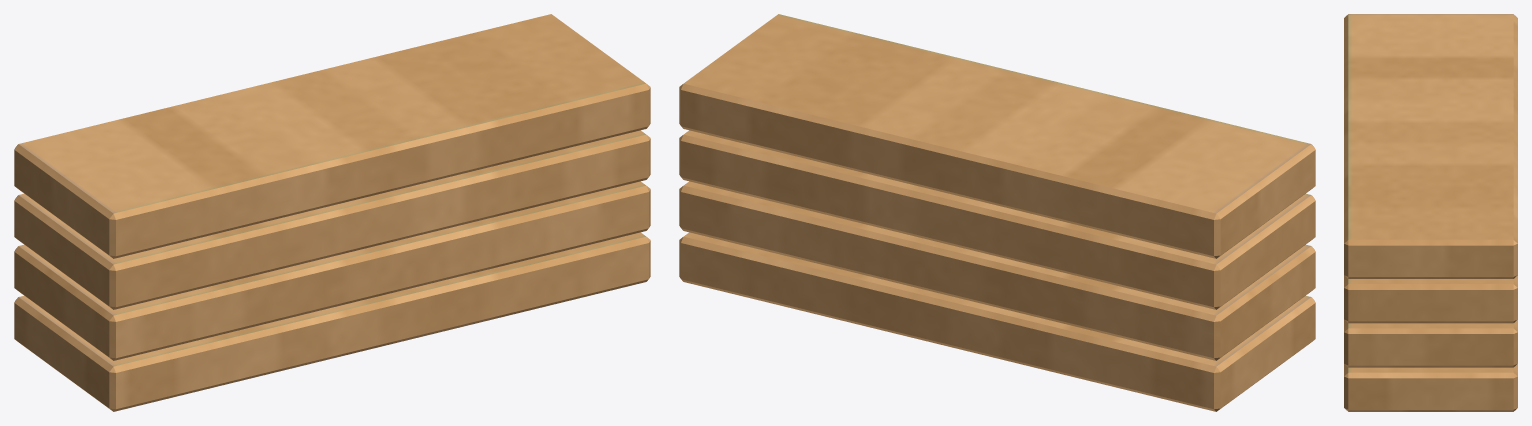
File: sm_prop_plank_stack.glb
3 views of the same model, side by side, from view 1: azimuth 30°, elevation 25°; view 2: azimuth 150°, elevation 25°; view 3: azimuth 270°, elevation 25° (orthographic). The views are drawn at different scales.
Parts seen in each view (by area): view 1: sm_prop_plank_stack; view 2: sm_prop_plank_stack; view 3: sm_prop_plank_stack.
Boxes of the visible parts, <box> form: sm_prop_plank_stack: <box>14,14,650,411</box>; sm_prop_plank_stack: <box>679,14,1315,411</box>; sm_prop_plank_stack: <box>1344,14,1517,411</box>.
Size of the model in its own units: 0.5 by 0.175 by 0.16.
1 material, 1 textured.
